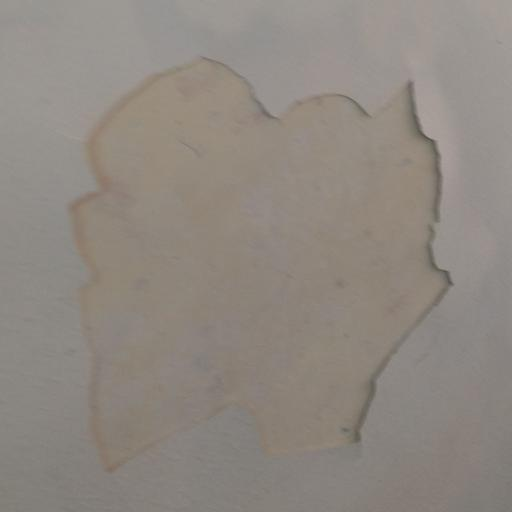peeling: (56, 38, 481, 475)
